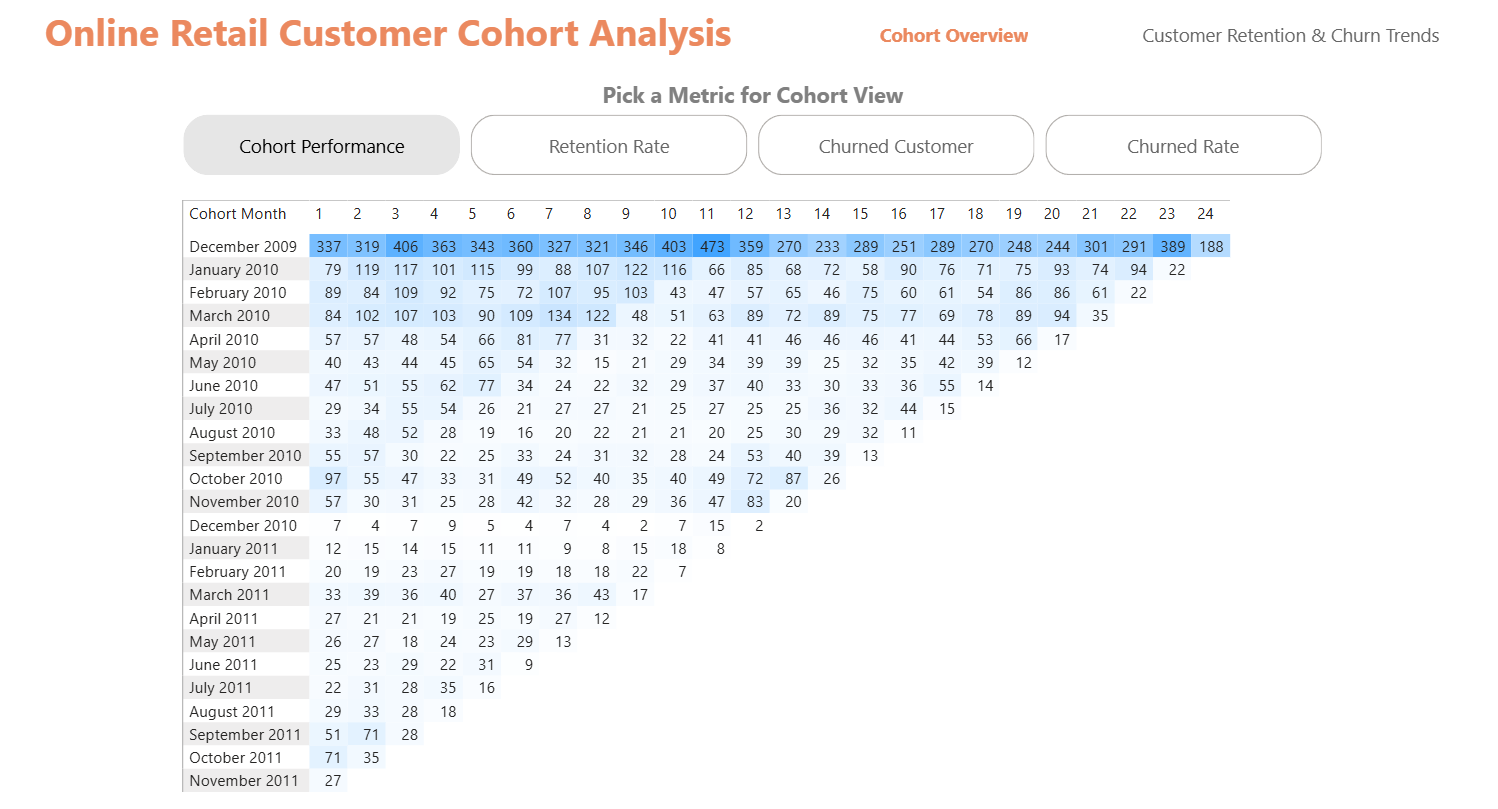

The page's visual inventory and layout, read from the dashboard file:
{"tool":"powerbi","page":{"name":"Cohort Overview","canvas":[1280,720],"ordinal":0},"visuals":[{"type":"pivotTable","fields":{"Values":["_Measures.Cohort Performance"],"Rows":["DimDate.Start Of Month"],"Columns":["FactSales.Month Since First Transaction"]},"box":[157.3,180.3,989.7,526.6],"z":0},{"type":"textbox","box":[24.5,13.5,628.5,61.1],"z":1000},{"type":"advancedSlicerVisual","title":"Pick a Metric for Cohort View","fields":{"Values":["Cohort.Cohort"]},"box":[157.7,83.2,989.3,86.8],"z":2000},{"type":"pageNavigator","box":[681.1,18.3,580.8,50.1],"z":2001}]}

Visuals, with their boxes on the page's 1280x720 design canvas (x1, y1, x2, y2). These are canvas units, not pixel positions in the 1498x809 screenshot, which may show the page scaled, cropped or inside an application window:
pivotTable - _Measures.Cohort Performance x DimDate.Start Of Month: {"left": 157, "top": 180, "right": 1147, "bottom": 707}
textbox: {"left": 24, "top": 14, "right": 653, "bottom": 75}
"Pick a Metric for Cohort View" advancedSlicerVisual: {"left": 158, "top": 83, "right": 1147, "bottom": 170}
pageNavigator: {"left": 681, "top": 18, "right": 1262, "bottom": 68}
